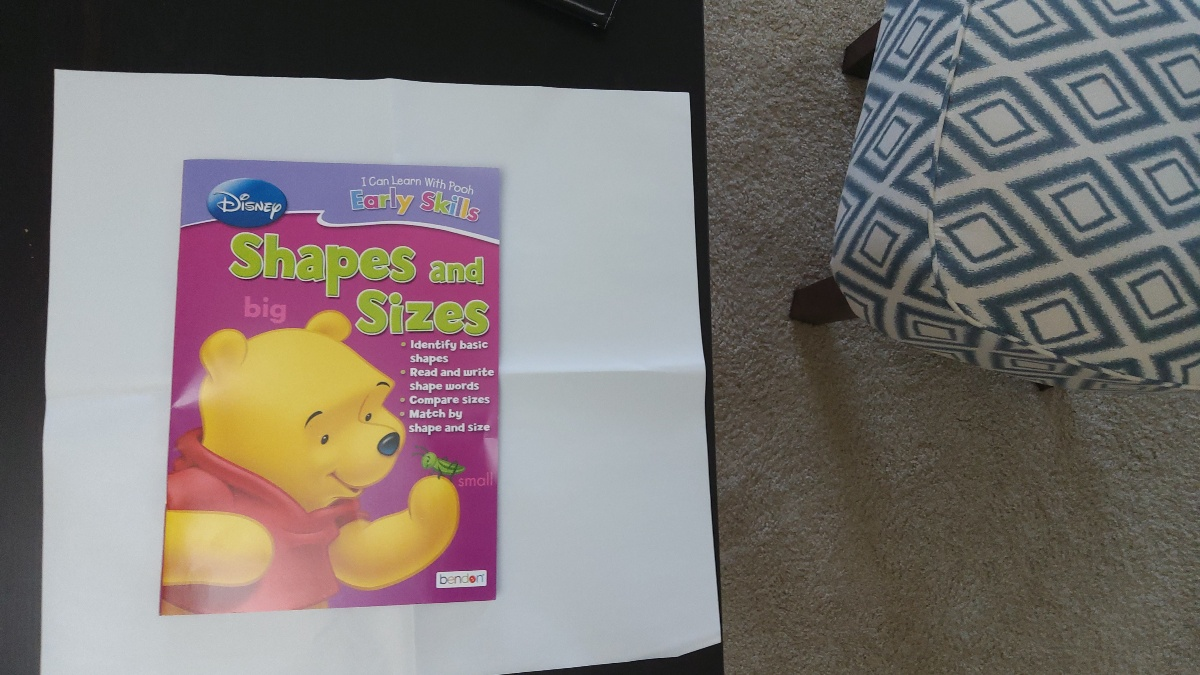book: (181, 162, 495, 603)
